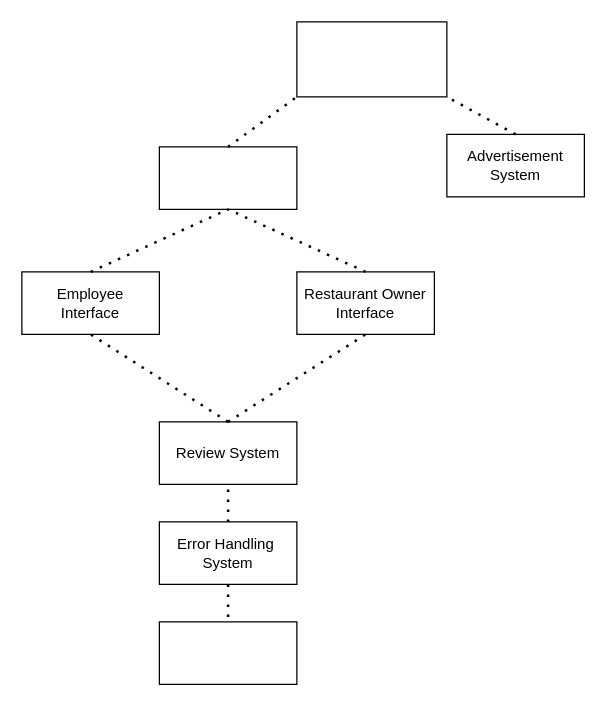
The diagram is 606 pixels wide and 706 high, and some of its shapes have lost their labels. The shapes that lost their labels are listed below. From the top down, each one's centre as x and y in pixels, then its label:
point (371, 59): Customer
point (227, 177): Order Management System
point (227, 652): Promo Code Management System
